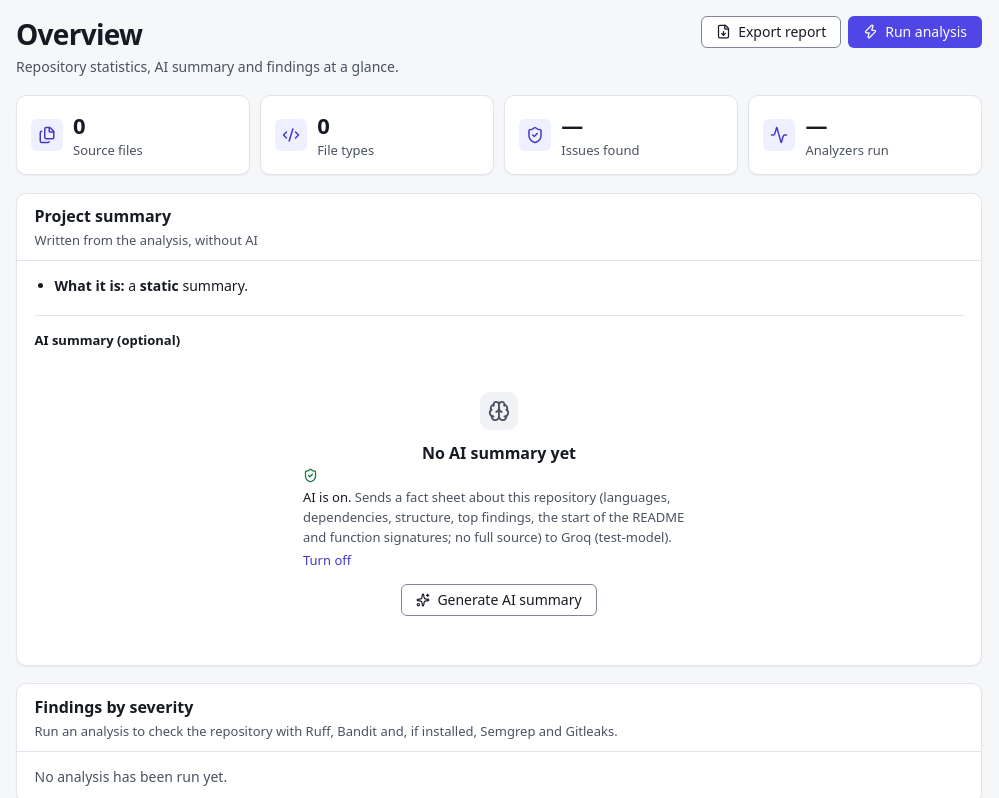
Scenario: Overview AI summary (A1 / BUG-02, BUG-03) › does not retry automatically after a failed generation
What coordinates should you click on to do the following:
click the button "Generate AI summary"
I would click on:
 (499, 600)
Its box is [401,584,597,616].
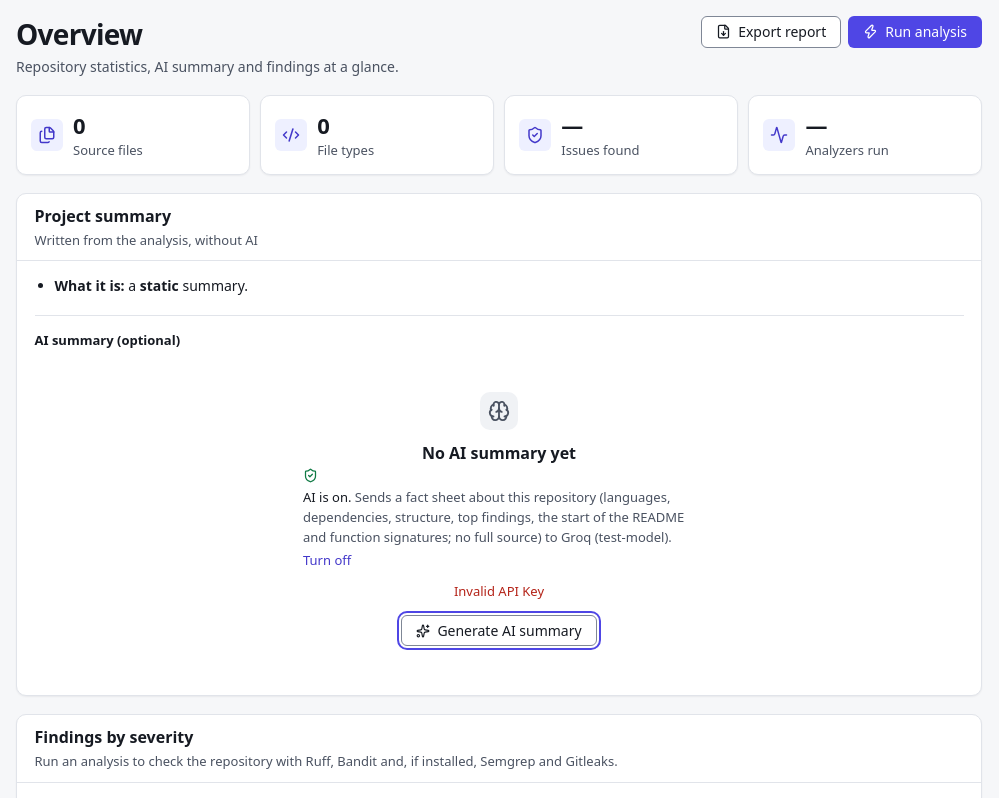
Expected: the text "Invalid API Key" is shown, [454,582,544,600]
